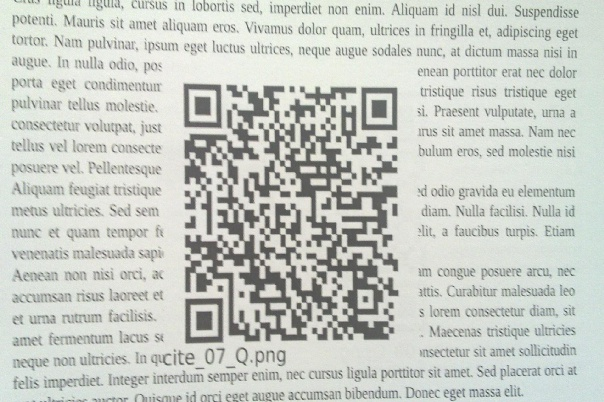code: (183, 83, 399, 343)
